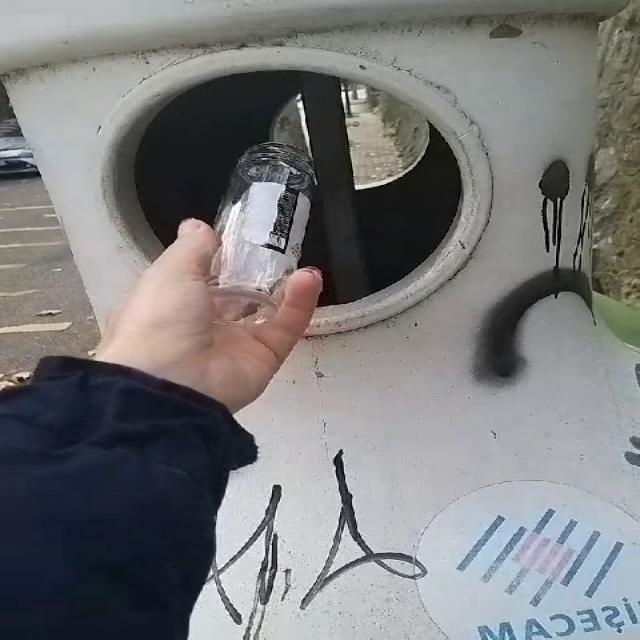glass: (212, 142, 316, 325)
